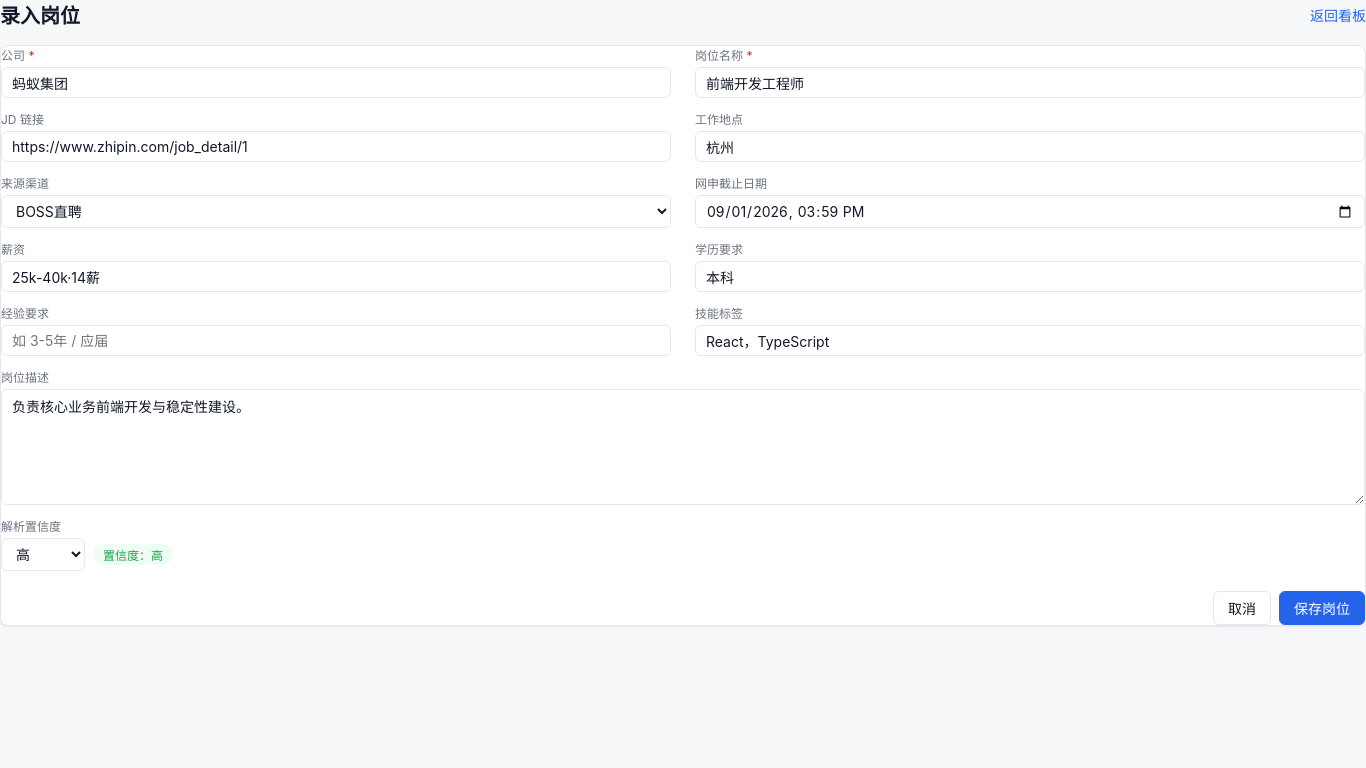
it: JobNew 保存与重复三选（AC-2/AC-5） › 命中 duplicate_of → 选「修改后新建」回到编辑并提示改名后保存
Click the button "保存岗位": click(1322, 608) [1279,591,1365,625]
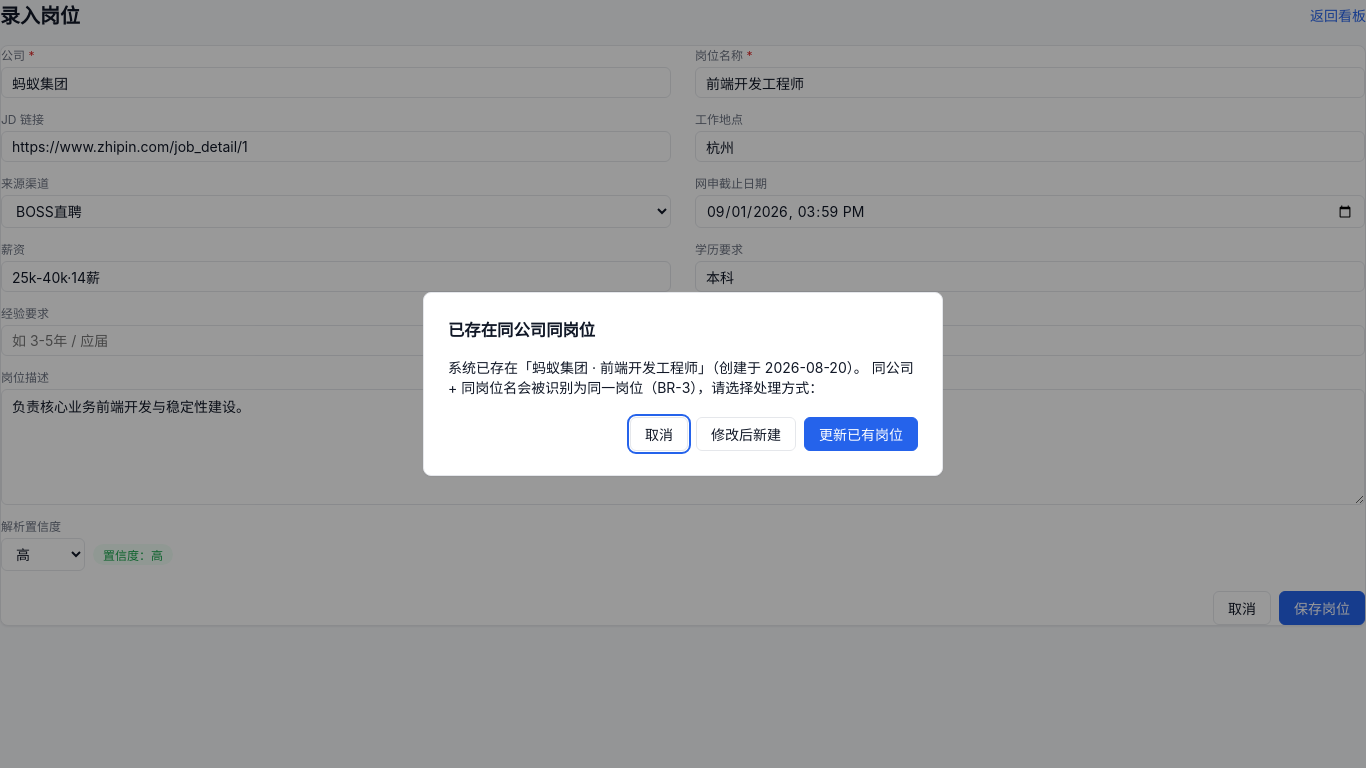
Click the button "修改后新建": click(746, 434) [696,417,796,451]
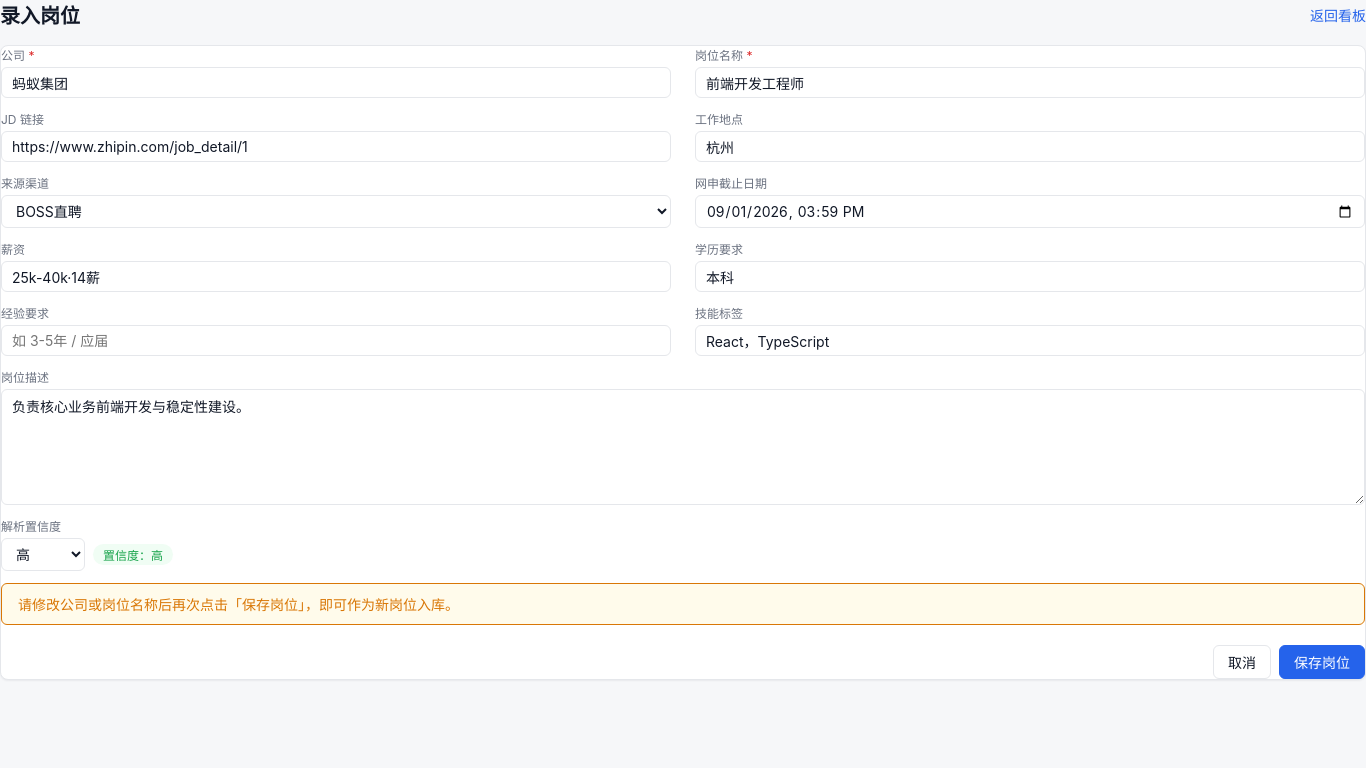
Check: the field named "公司" holds "蚂蚁集团", box [1,67,671,98]
Check: the text "请修改公司或岗位名称后再次点击「保存岗位」，即可作为新岗位入库。" is shown, box [1,583,1365,625]
